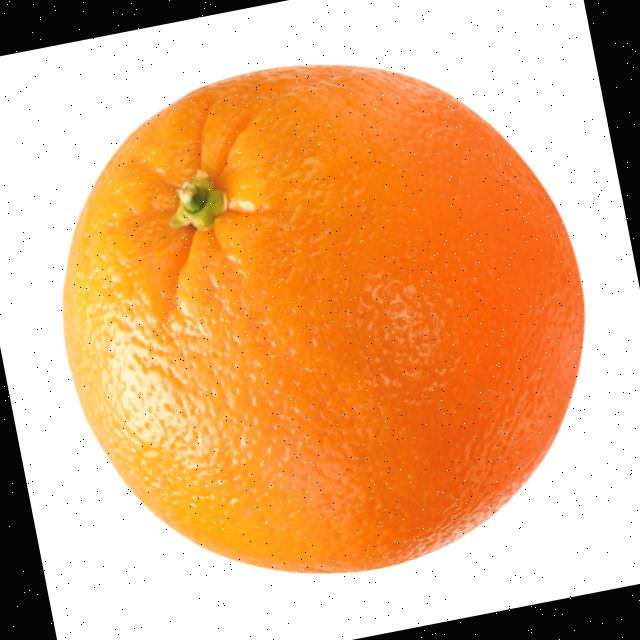Ripe: (9, 13, 637, 640)
